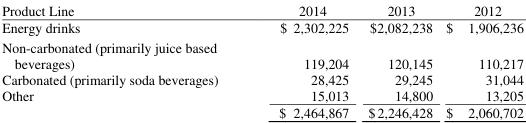table: (1, 0, 522, 120)
table column: (1, 0, 247, 120), (247, 0, 357, 120), (438, 0, 522, 120), (357, 0, 438, 120)
table column header: (1, 0, 522, 18)
table row: (1, 36, 522, 70), (1, 0, 522, 18), (1, 18, 522, 36), (1, 102, 522, 120), (1, 70, 522, 86), (1, 86, 522, 102)
